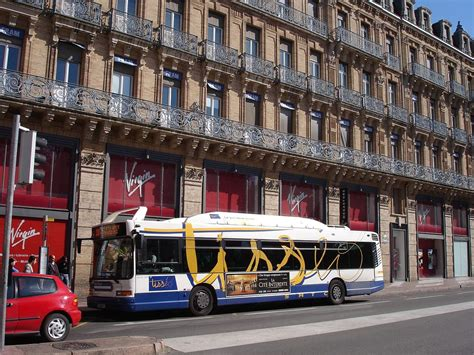bus: (86, 217, 384, 308)
car: (1, 274, 80, 336)
